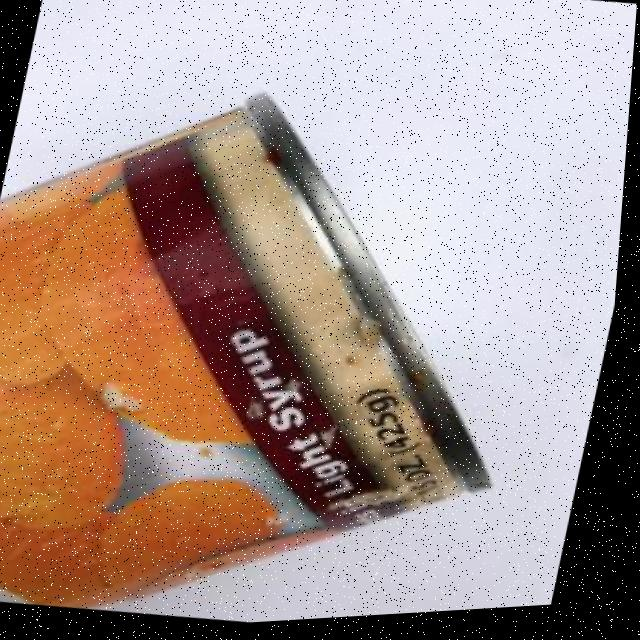metal: (0, 35, 598, 640)
